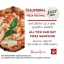basil: (4, 27, 18, 39), (7, 17, 19, 30)
pizza: (1, 5, 26, 52)
